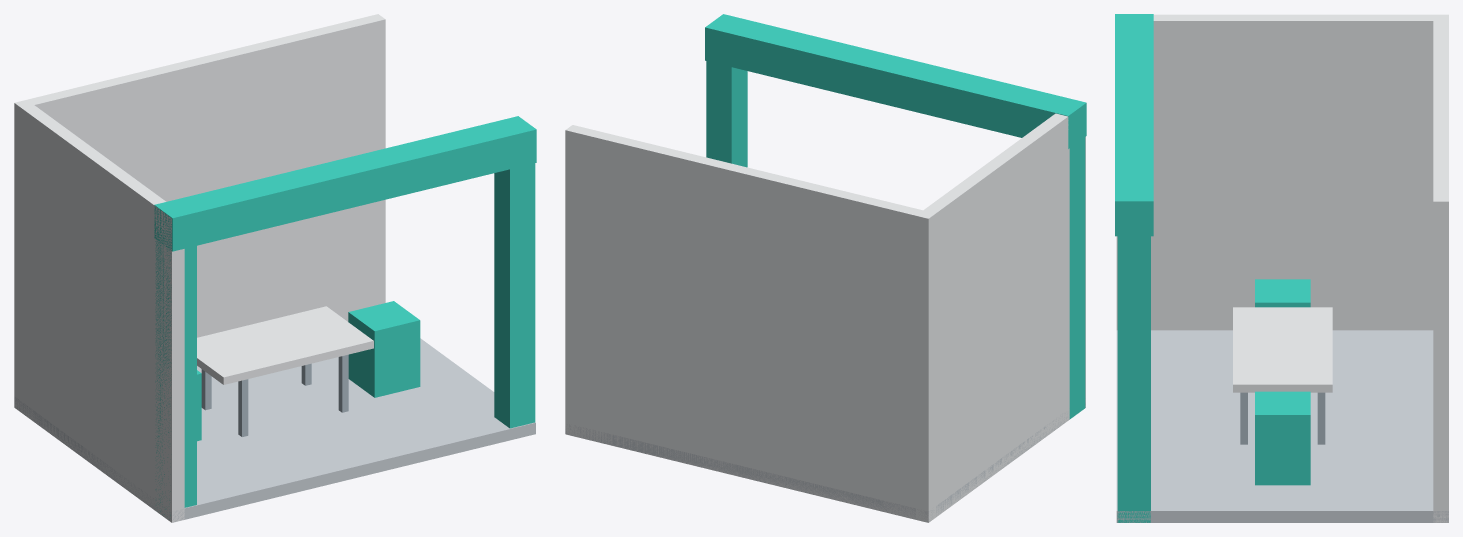
3 renders of one model, left to right at view 1: azimuth 30°, elevation 25°; view 2: azimuth 150°, elevation 25°; view 3: azimuth 270°, elevation 25°, orthographic. The views are drawn at different scales.
Visible parts, largest first — view 1: Exhibition Booth Concept; view 2: Exhibition Booth Concept; view 3: Exhibition Booth Concept.
Part boxes in pixels (x1,y1,x2,y2): Exhibition Booth Concept: (14, 14, 536, 522); Exhibition Booth Concept: (565, 14, 1086, 522); Exhibition Booth Concept: (1115, 14, 1448, 522).
Bounding box in the file's own units: 4 × 3.2 × 3.01.
